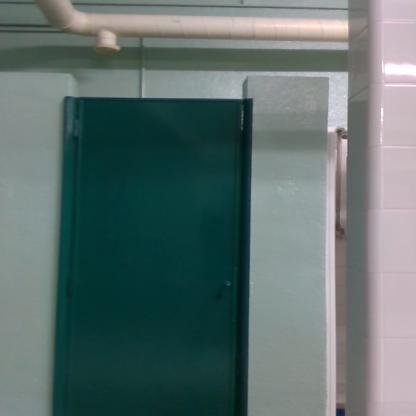door: (76, 95, 236, 416)
hinged: (67, 273, 77, 296), (71, 117, 80, 138)
